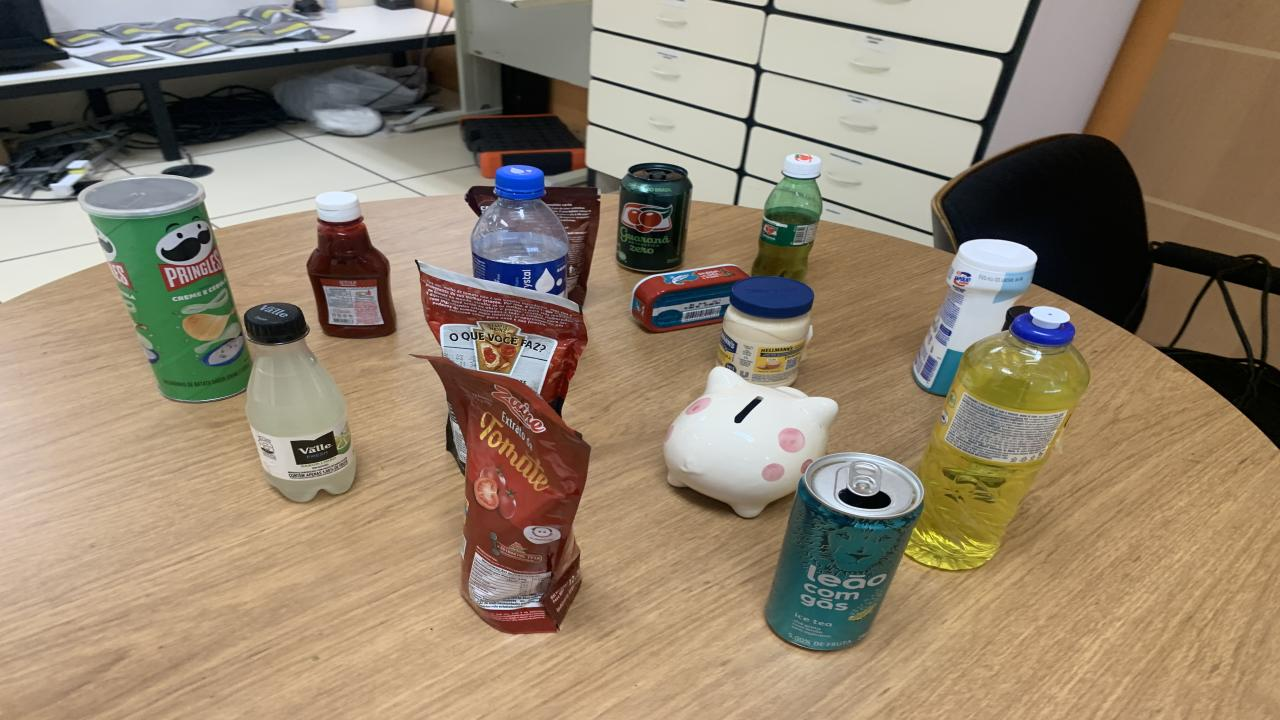Cleaner-Cleanup_Items: (912, 238, 1038, 396)
Coffee-Pantry_Items: (542, 188, 600, 306), (465, 186, 498, 216)
Detergent-Cleanup_Items: (905, 308, 1090, 570)
Guarana-Drinks: (752, 154, 822, 279)
Guarana_Can-Drinks: (618, 163, 692, 272)
Ketchup-Pantry_Items: (308, 191, 395, 338)
Mayonnaise-Pantry_Items: (718, 276, 815, 386)
Pig_Safe-Miscellaneous: (662, 366, 838, 518)
Pringles-Snacks: (80, 176, 250, 401)
Soda-Drinks: (245, 302, 355, 502)
Tea-Drinks: (765, 452, 925, 651)
Tomato_Sauce-Pantry_Items: (420, 356, 590, 634), (418, 261, 588, 420), (630, 264, 748, 332), (485, 594, 565, 634), (445, 407, 472, 472)
Water_Bottle-Drinks: (470, 165, 568, 296)
